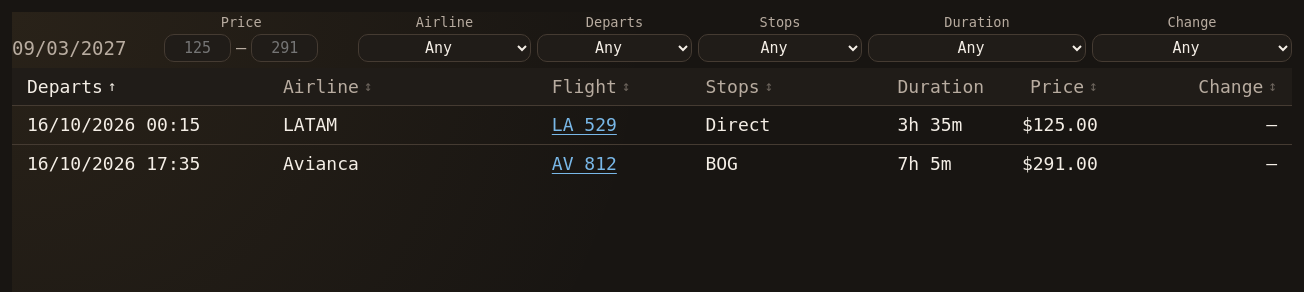
FlightTable › says the filters emptied the table rather than showing a bare header
Type "999" into the number field named "Min price". click: (197,48)
box: [164,34,231,62]
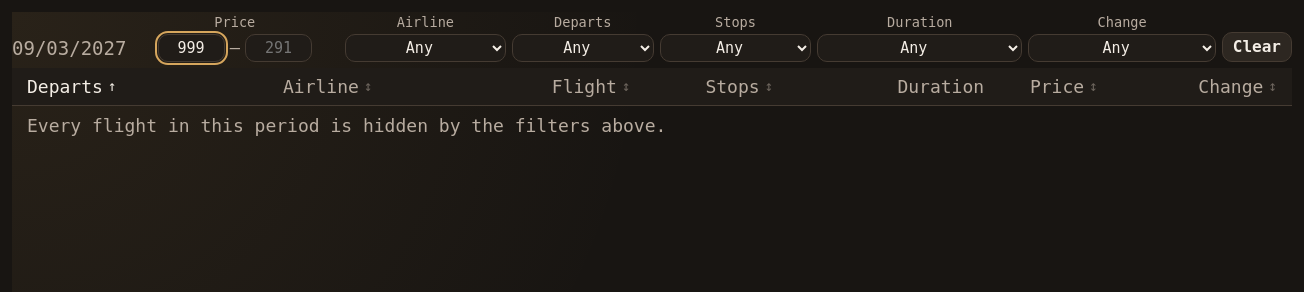
Expected: the text "Every flight in this period is hidden by the filters above." is shown, [27,114,666,136]
